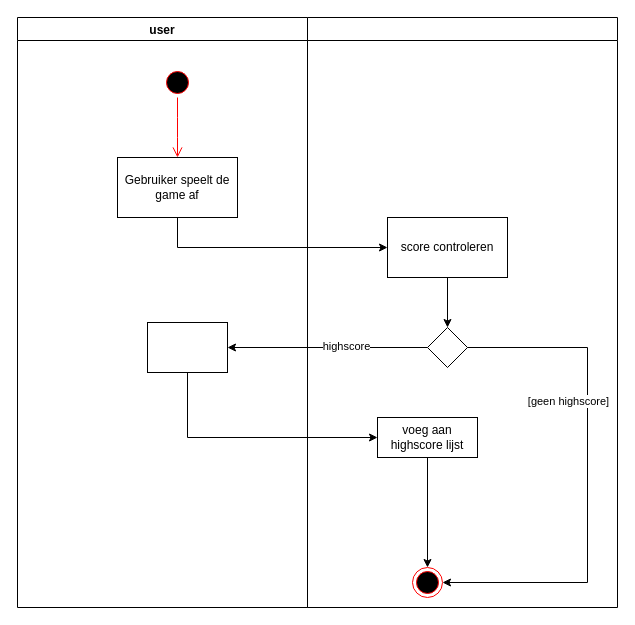
Image size: 635x625. Some labels were removed from this diagram. The shapes that lost their labels are listed below. From the top down, each one's box as (x1, y1, x2, y2) in pixels, then its label:
(306, 16, 618, 608): system
(146, 322, 228, 372): toon melding
